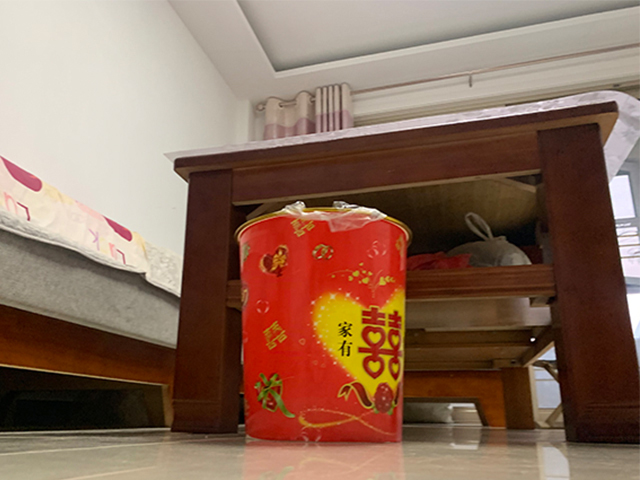sofa: (1, 153, 181, 428)
table: (169, 100, 640, 446)
trashcan: (234, 206, 413, 445)
